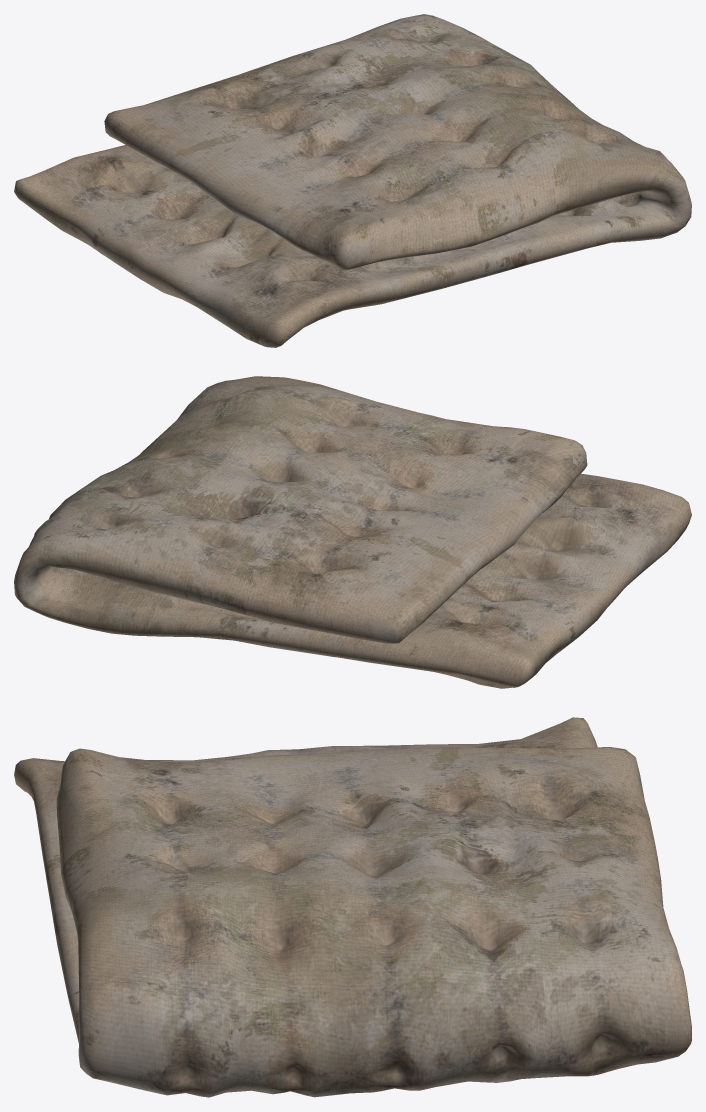
File: SM_Mattress01_4_LOD0.glb
3 renders of one model, top to bottom at view 1: azimuth 30°, elevation 25°; view 2: azimuth 150°, elevation 25°; view 3: azimuth 270°, elevation 25°, orthographic. The views are drawn at different scales.
Parts seen in each view (by area): view 1: SM_Mattress01_4_LOD0; view 2: SM_Mattress01_4_LOD0; view 3: SM_Mattress01_4_LOD0.
Part boxes in pixels (x1=…): SM_Mattress01_4_LOD0: x1=14, y1=14, x2=691, y2=347; SM_Mattress01_4_LOD0: x1=14, y1=376, x2=691, y2=688; SM_Mattress01_4_LOD0: x1=14, y1=717, x2=691, y2=1097.
Size of the model in its own units: 1.34 by 0.296 by 1.17.
Materials: 1 (1 with a texture image).
